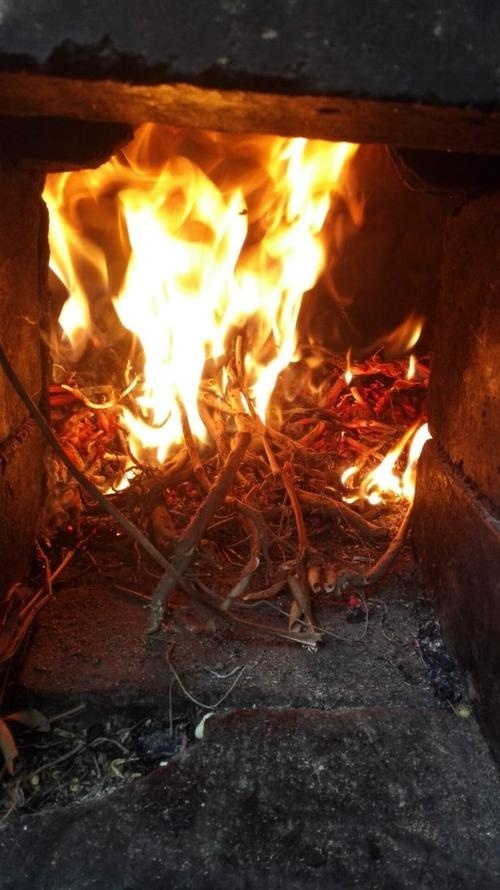fire: (42, 127, 361, 458), (342, 421, 431, 506), (398, 313, 426, 381)
